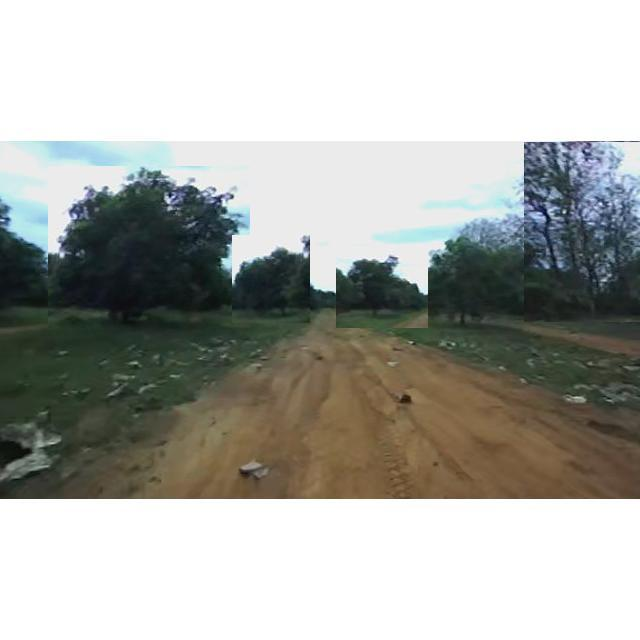direk: (48, 166, 250, 330), (524, 142, 640, 322), (406, 220, 544, 342), (336, 244, 428, 328), (0, 203, 58, 323), (232, 235, 310, 323)
